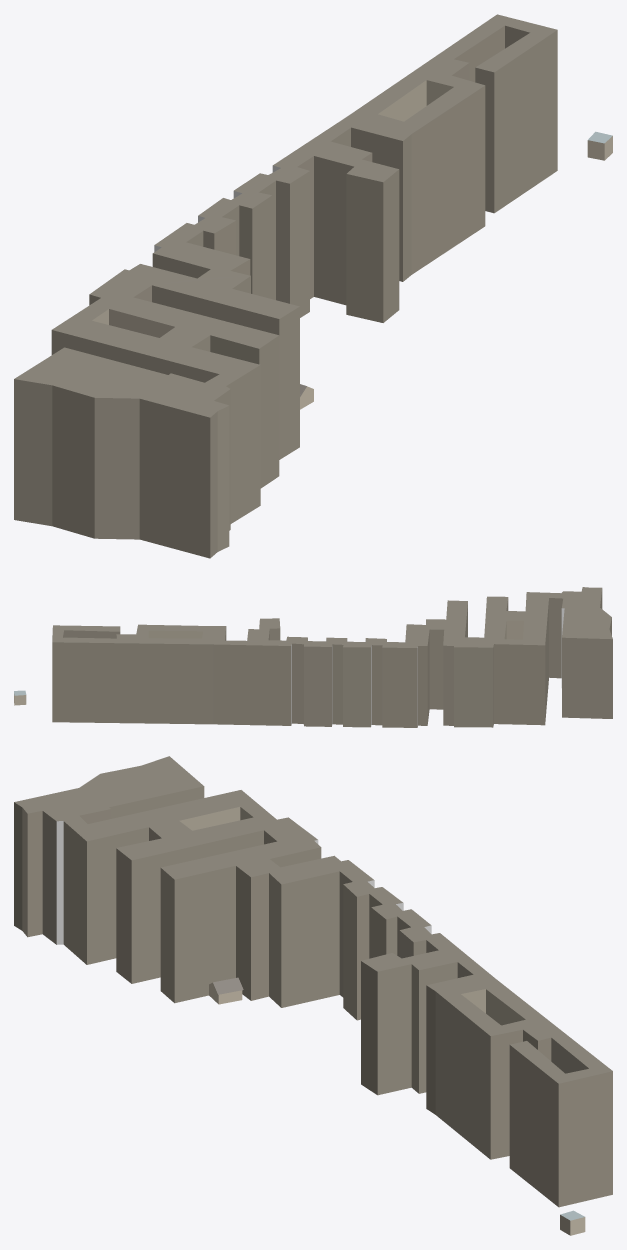
3 views of the same model, one above another, from view 1: azimuth 30°, elevation 25°; view 2: azimuth 150°, elevation 25°; view 3: azimuth 270°, elevation 25° (orthographic). The views are drawn at different scales.
Parts seen in each view (by area): view 1: tuile; view 2: tuile; view 3: tuile.
Part boxes in pixels (<box>): tuile: <box>14,14,612,558</box>; tuile: <box>14,587,612,727</box>; tuile: <box>14,756,612,1235</box>.
Bounding box in the file's own units: 248 × 41.07 × 178.
